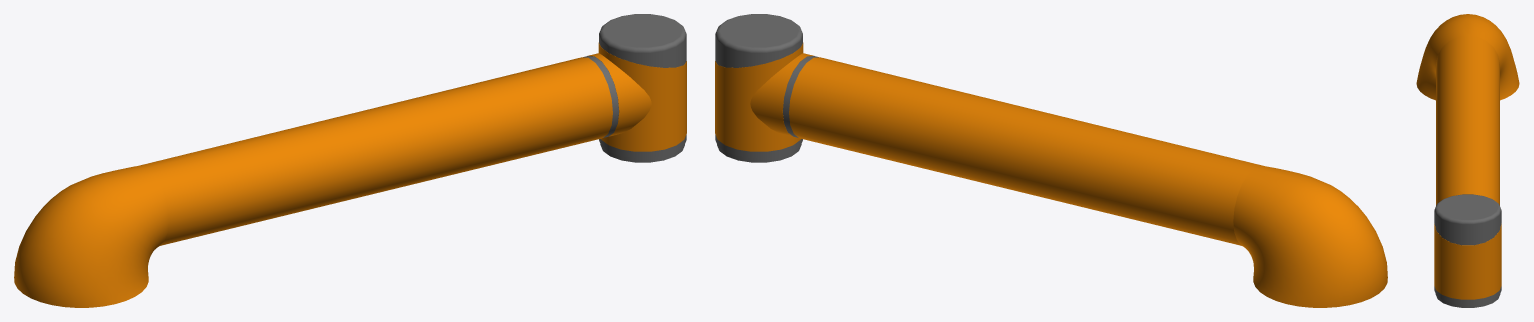
The picture shows the model from 3 angles, left to right: view 1: azimuth 30°, elevation 25°; view 2: azimuth 150°, elevation 25°; view 3: azimuth 270°, elevation 25°; orthographic projection. The views are drawn at different scales.
Parts seen in each view (by area): view 1: FBXASC195FBXASC135FBXASC195FBXASC144FBXASC194FBXASC179FBXASC; view 2: FBXASC195FBXASC135FBXASC195FBXASC144FBXASC194FBXASC179FBXASC; view 3: FBXASC195FBXASC135FBXASC195FBXASC144FBXASC194FBXASC179FBXASC.
Boxes of the visible parts, left/top/right/bottom form: FBXASC195FBXASC135FBXASC195FBXASC144FBXASC194FBXASC179FBXASC: left=14, top=14, right=686, bottom=307; FBXASC195FBXASC135FBXASC195FBXASC144FBXASC194FBXASC179FBXASC: left=715, top=14, right=1387, bottom=307; FBXASC195FBXASC135FBXASC195FBXASC144FBXASC194FBXASC179FBXASC: left=1416, top=14, right=1519, bottom=307.
Size of the model in its own units: 0.8434 by 0.15 by 0.14.
